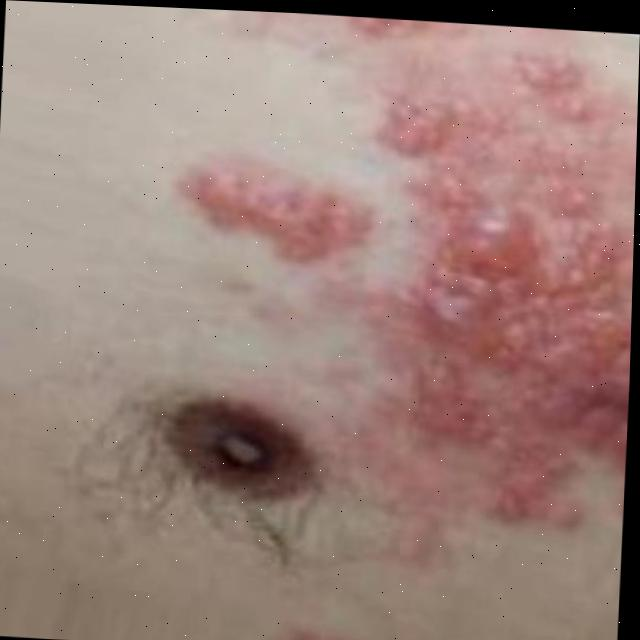Shingles: (381, 22, 640, 492), (193, 159, 344, 262)
